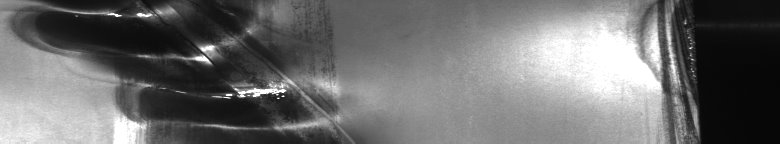ke: (24, 4, 340, 136)
